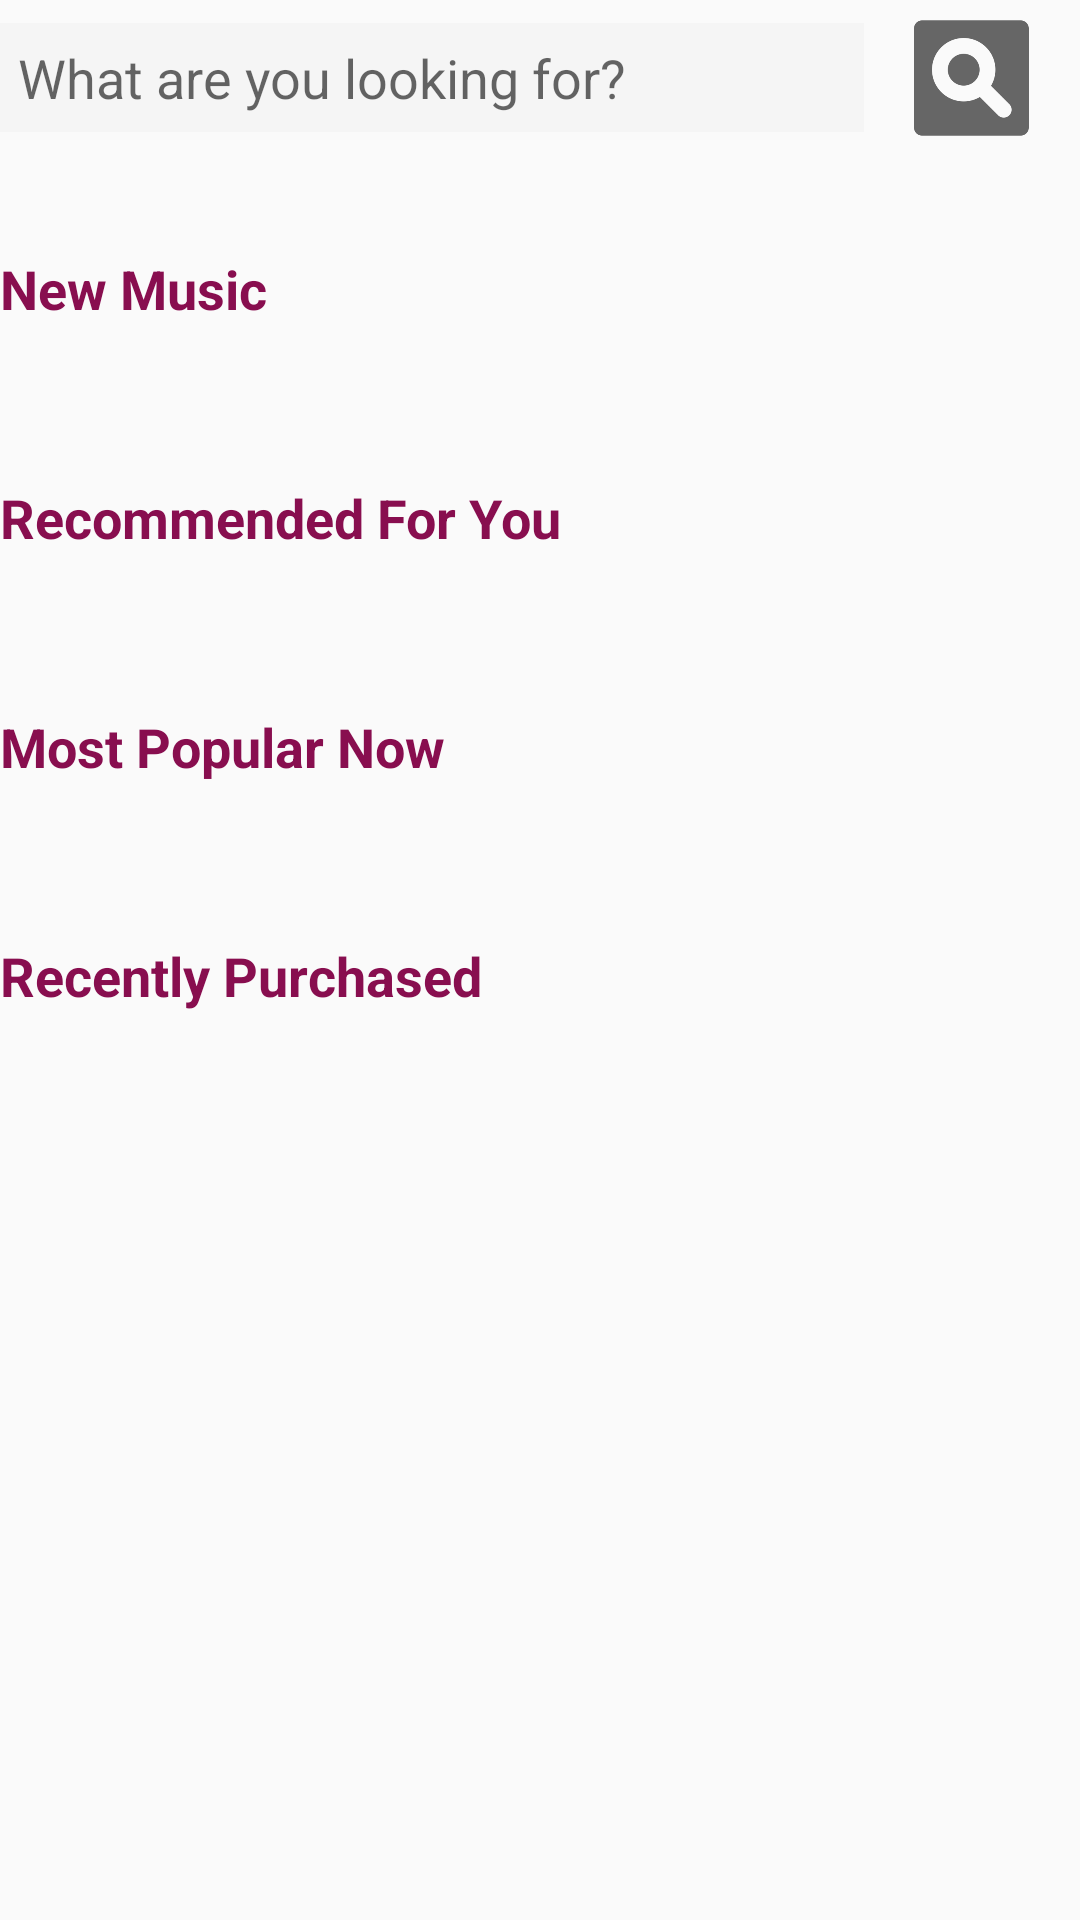

Locate icon controls on the screen. Image size 1080×1920, boxes as (left=x1, top=y1, right=x2, bottom=y2).
search: (left=914, top=20, right=1029, bottom=136)
